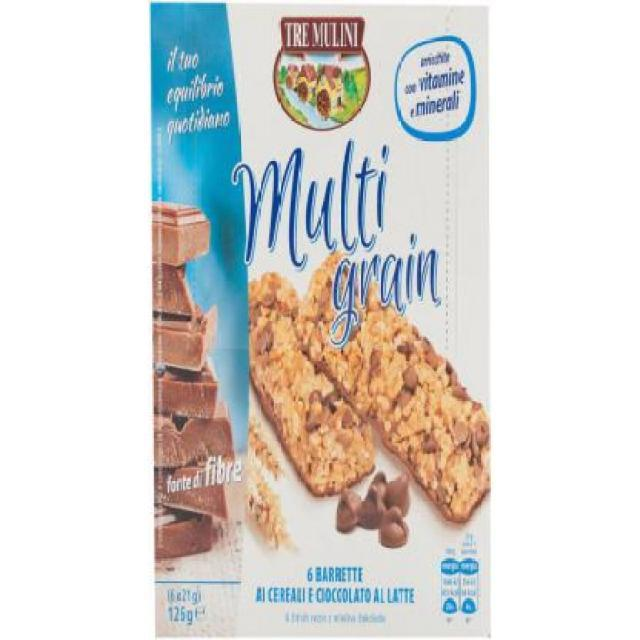Cereal bar: (142, 4, 500, 638)
